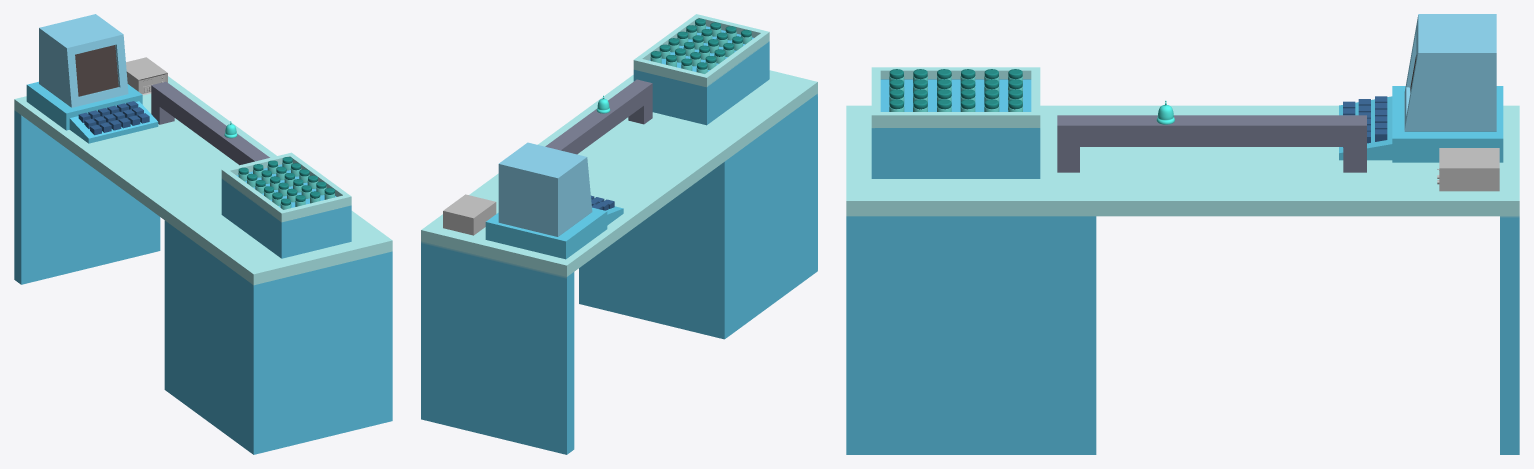
The model's file is HoneyMerchTable.fbx.
3 renders of one model, left to right at view 1: azimuth 30°, elevation 25°; view 2: azimuth 150°, elevation 25°; view 3: azimuth 270°, elevation 25°, orthographic. The views are drawn at different scales.
Visible parts, largest first — view 1: MerchTable, PC, Box, Rail, Colbs, IDKWTFIT; view 2: MerchTable, PC, Box, Rail, Colbs, IDKWTFIT; view 3: MerchTable, PC, Box, Rail, Colbs, IDKWTFIT.
Part boxes in pixels (<box>): MerchTable: <box>14,76,392,454</box>; PC: <box>26,14,158,143</box>; Box: <box>221,152,351,258</box>; Rail: <box>151,81,269,165</box>; Colbs: <box>238,157,334,209</box>; IDKWTFIT: <box>126,57,167,95</box>; MerchTable: <box>421,70,817,454</box>; PC: <box>485,142,623,259</box>; Box: <box>633,14,769,125</box>; Rail: <box>545,79,652,154</box>; Colbs: <box>650,18,751,73</box>; IDKWTFIT: <box>443,194,496,235</box>; MerchTable: <box>846,105,1519,454</box>; PC: <box>1339,14,1503,162</box>; Box: <box>871,67,1040,178</box>; Rail: <box>1057,115,1366,172</box>; Colbs: <box>889,69,1022,111</box>; IDKWTFIT: <box>1437,148,1499,191</box>.
Size of the model in its own units: 78.76 by 137 by 235.
